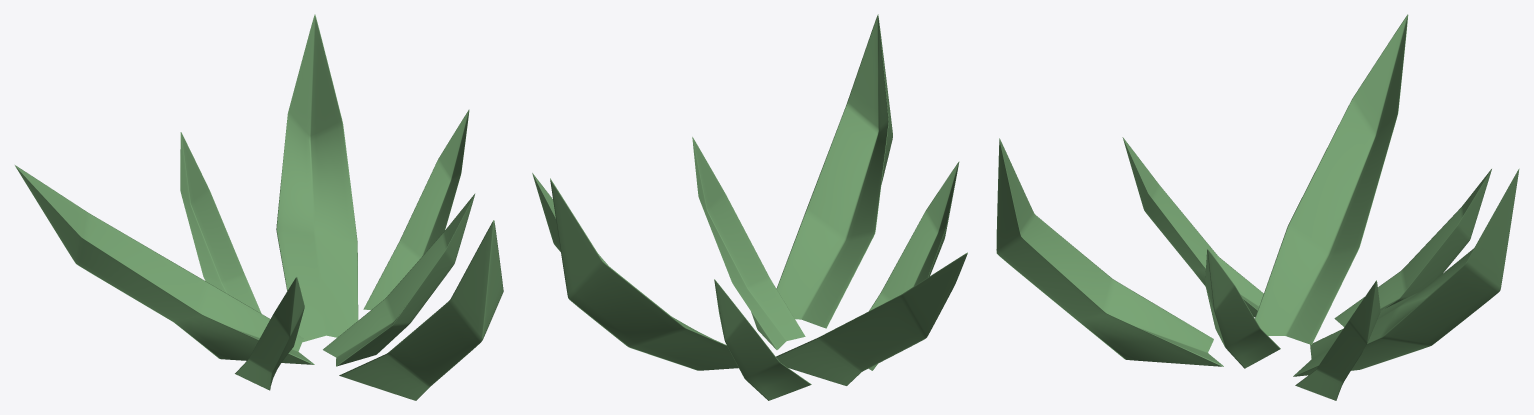
The model's file is Grass 2.fbx.
3 views of the same model, side by side, from view 1: azimuth 30°, elevation 25°; view 2: azimuth 150°, elevation 25°; view 3: azimuth 270°, elevation 25° (orthographic). The views are drawn at different scales.
Parts seen in each view (by area): view 1: Plane.002; view 2: Plane.002; view 3: Plane.002.
Part boxes in pixels (x1=…): Plane.002: x1=15, y1=14, x2=503, y2=400; Plane.002: x1=532, y1=14, x2=967, y2=400; Plane.002: x1=996, y1=14, x2=1519, y2=400.
Bounding box in the file's own units: 139 × 70.13 × 137.
